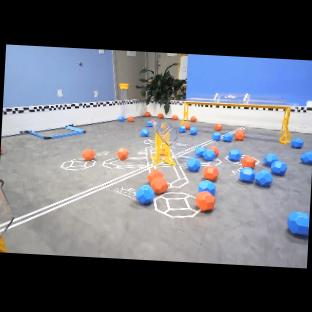V5_BLUE: (286, 210, 308, 235), (287, 211, 309, 236), (262, 153, 286, 172), (134, 184, 153, 205), (198, 180, 215, 196), (258, 169, 272, 185), (212, 131, 232, 142), (185, 157, 199, 171), (204, 146, 217, 158), (227, 149, 241, 160), (240, 170, 252, 182), (300, 151, 311, 163), (292, 137, 302, 147), (140, 128, 149, 136), (189, 127, 197, 134), (146, 120, 152, 127), (178, 126, 183, 132)
V5_RED: (146, 168, 168, 193), (195, 189, 214, 211), (81, 148, 94, 159), (116, 149, 127, 159), (234, 132, 244, 140), (214, 123, 222, 130), (171, 114, 177, 120), (127, 116, 133, 121), (190, 116, 196, 121), (157, 113, 163, 118), (144, 111, 150, 116)
